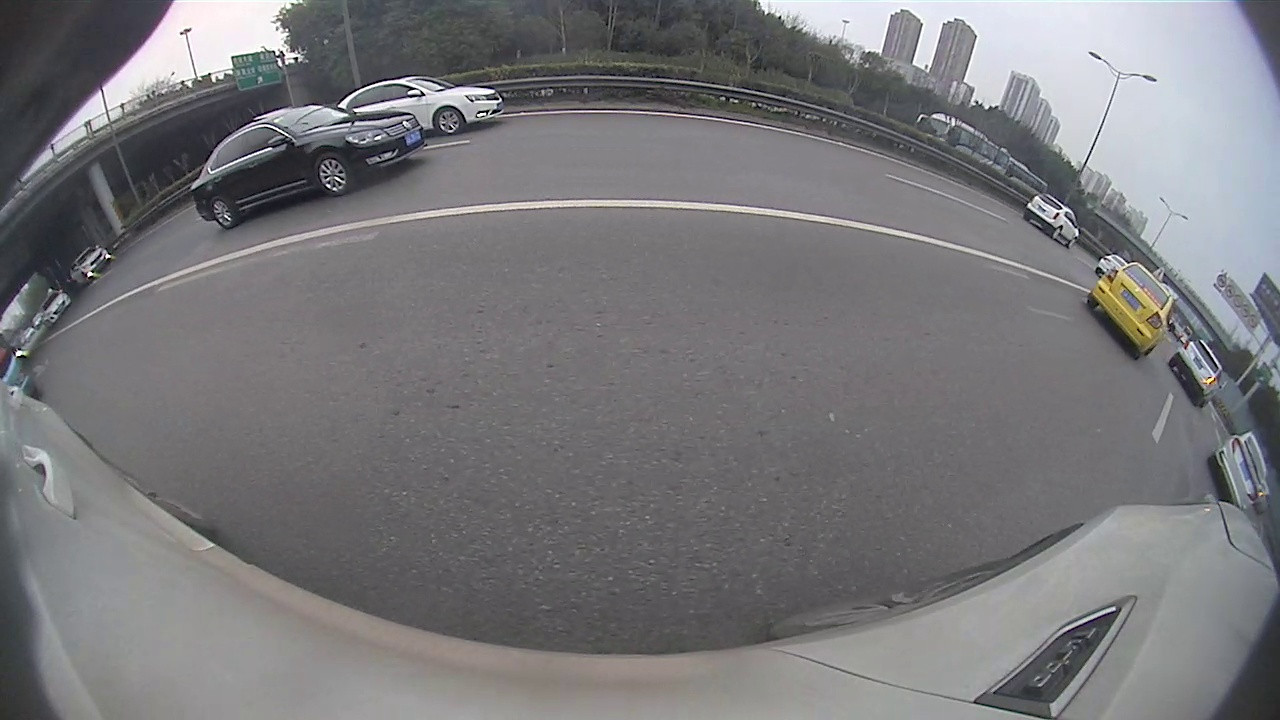car: (193, 107, 424, 228), (337, 76, 502, 134), (1088, 257, 1170, 356), (1214, 428, 1267, 517), (1022, 192, 1078, 250), (1174, 341, 1221, 403)
front: (311, 152, 353, 197), (433, 108, 464, 137), (1069, 237, 1077, 250)
rear: (207, 198, 235, 229), (1051, 227, 1063, 241)
